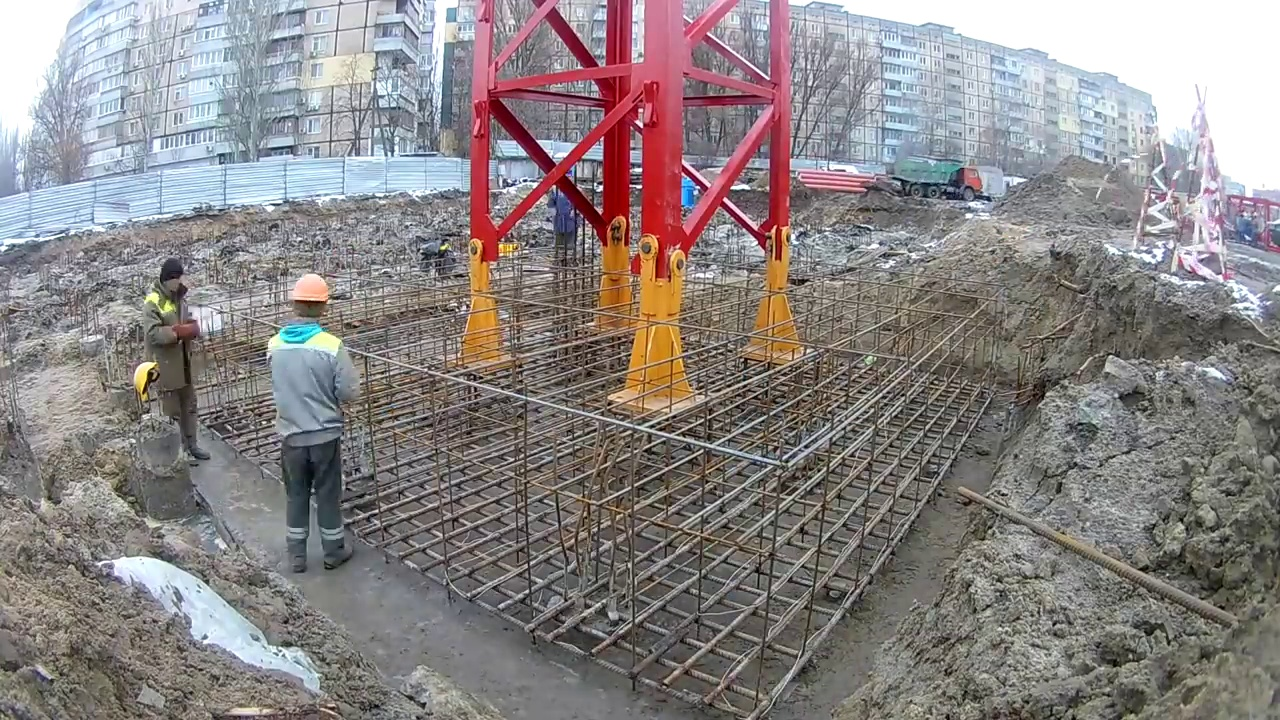helmet: (132, 359, 160, 402), (291, 276, 329, 305)
helmet-off: (154, 260, 188, 301)
helmet-on: (290, 276, 331, 333)
person: (268, 277, 358, 576), (133, 259, 212, 468), (546, 165, 583, 255)
